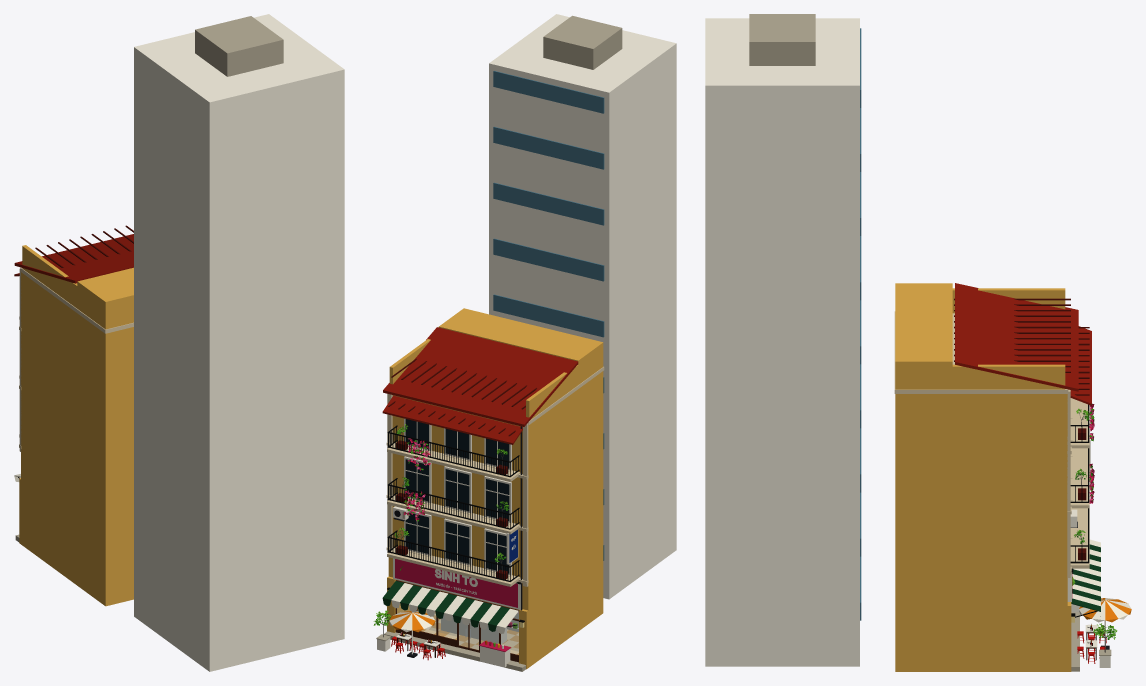
The model's file is PV_StreetShop10.fbx.
3 renders of one model, left to right at view 1: azimuth 30°, elevation 25°; view 2: azimuth 150°, elevation 25°; view 3: azimuth 270°, elevation 25°, orthographic. The views are drawn at different scales.
Parts seen in each view (by area): view 1: PV_StreetShop10_LOD0; view 2: PV_StreetShop10_LOD0; view 3: PV_StreetShop10_LOD0.
Part boxes in pixels (x1,y1,x2,y2): PV_StreetShop10_LOD0: (14,14,344,671); PV_StreetShop10_LOD0: (373,14,676,671); PV_StreetShop10_LOD0: (705,14,1131,671).
Size of what is drawn, in the model's own units: 8.46 by 30.2 by 19.3.
Materials: 2 (1 with a texture image).
